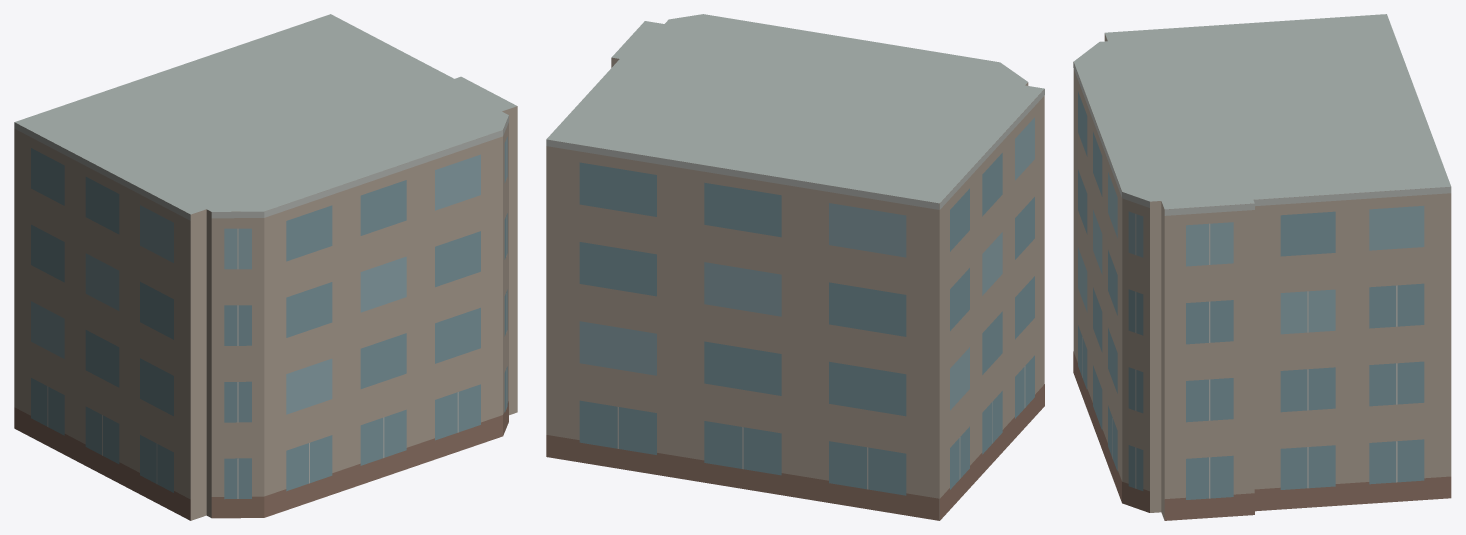
Rendered from survey-upis-32998308.glb.
3 views of the same model, side by side, from view 1: azimuth 30°, elevation 25°; view 2: azimuth 150°, elevation 25°; view 3: azimuth 270°, elevation 25° (orthographic). The views are drawn at different scales.
Parts seen in each view (by area): view 1: survey-upis-32998308.tmp; view 2: survey-upis-32998308.tmp; view 3: survey-upis-32998308.tmp.
Boxes of the visible parts, x1,y1,x2,y2 form: survey-upis-32998308.tmp: (14,14,517,520); survey-upis-32998308.tmp: (546,14,1044,520); survey-upis-32998308.tmp: (1073,14,1451,520).
Size of the model in its own units: 15.75 by 11.7 by 12.87.
